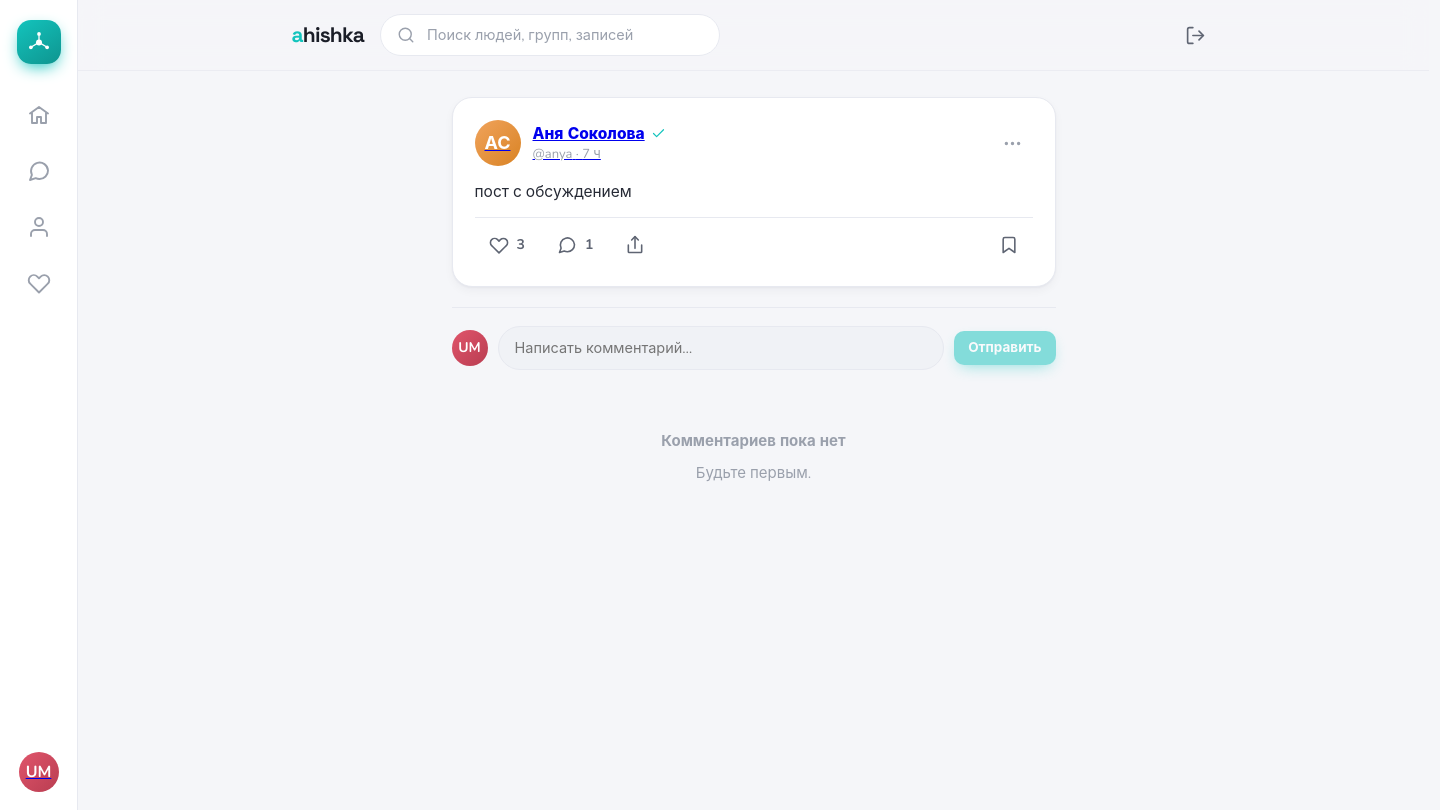
Test: ошибка отправки показана, а текст не пропадает
Type "моя реплика" into the field with placeholder "Написать комментарий…" at (721,348), box top-left (498, 326), bottom-right (944, 370)
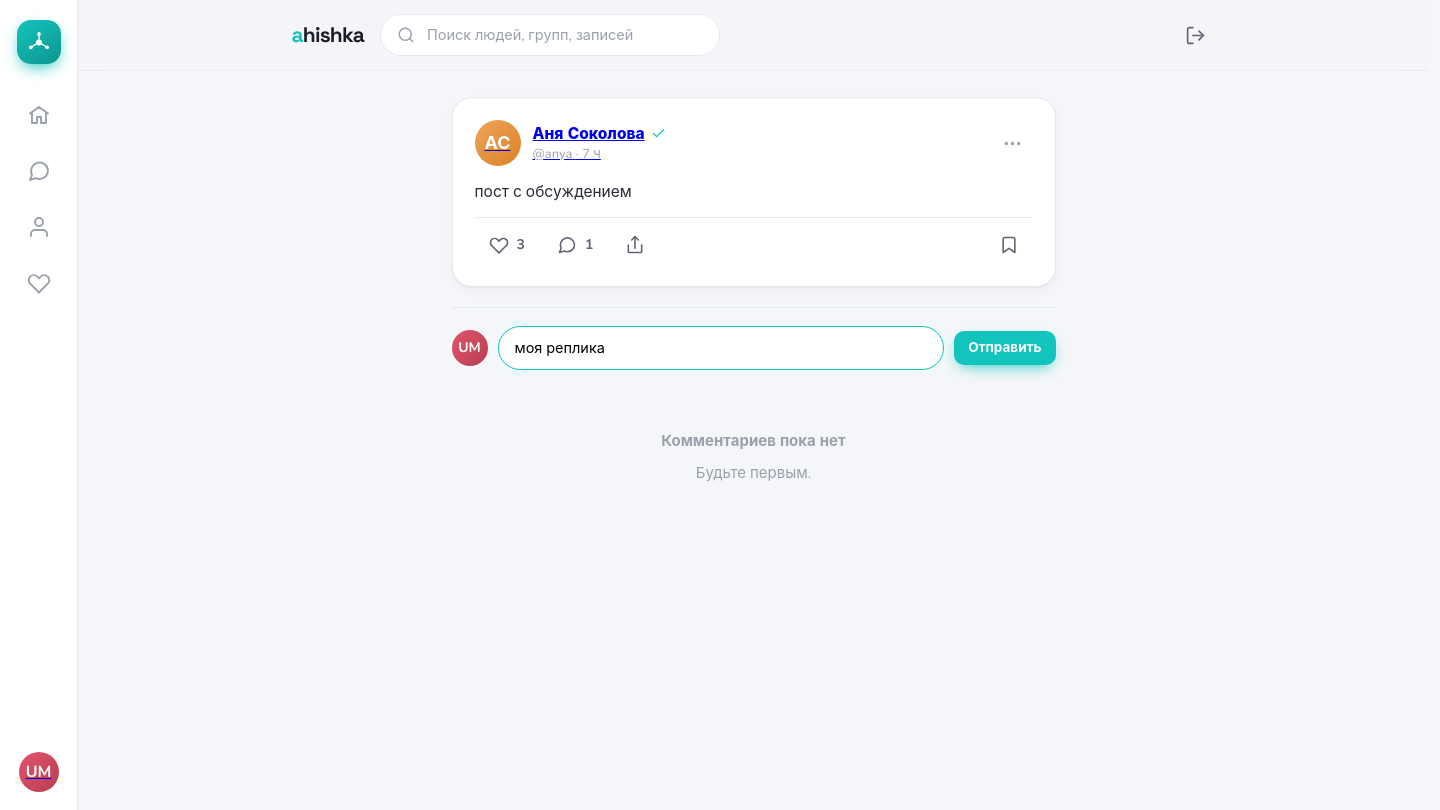
Click the button "Отправить" at (1005,348), box top-left (954, 331), bottom-right (1056, 365)
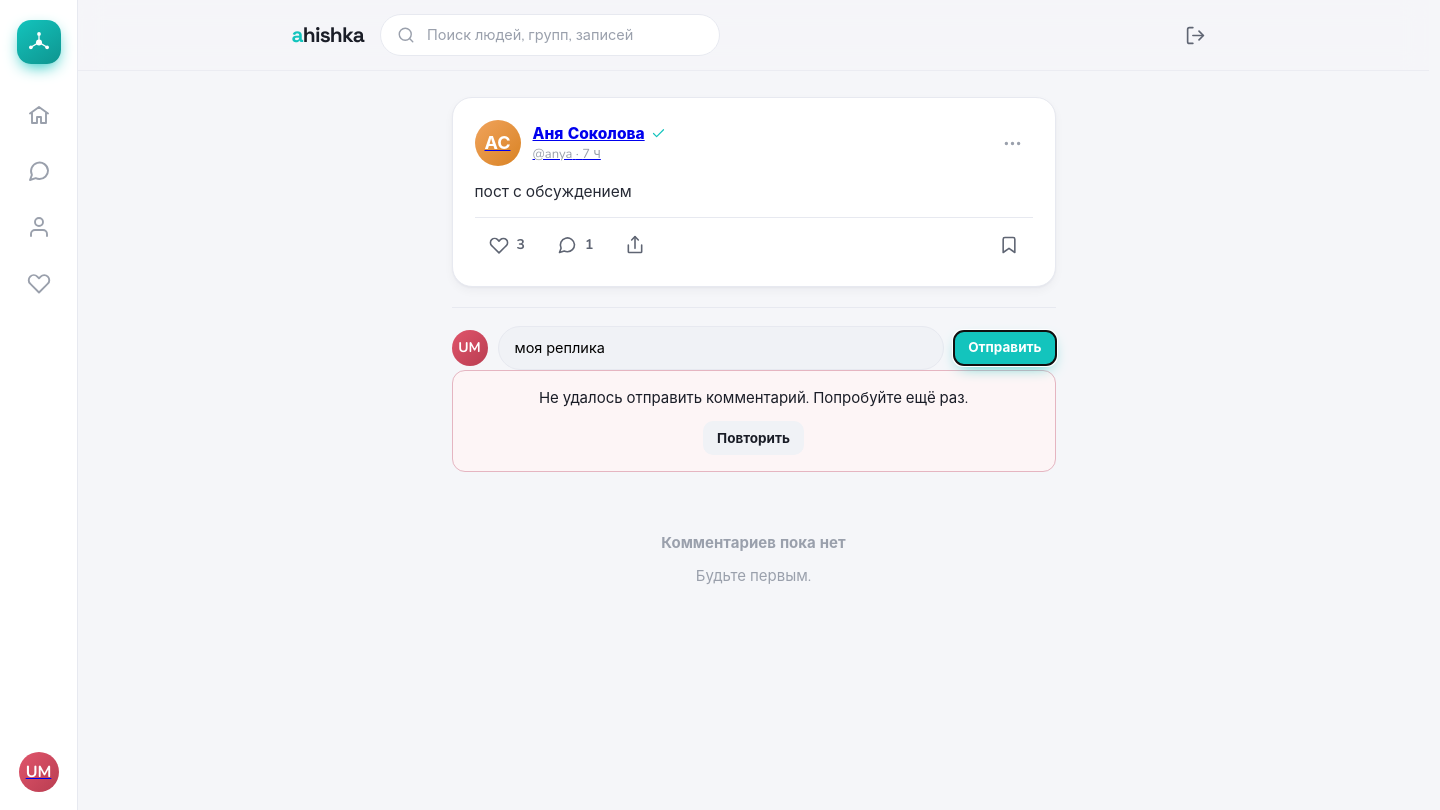
Expected: the message "Не удалось отправить комментарий. Попробуйте ещё раз. Повторить" is shown, top-left (452, 370), bottom-right (1056, 472)
